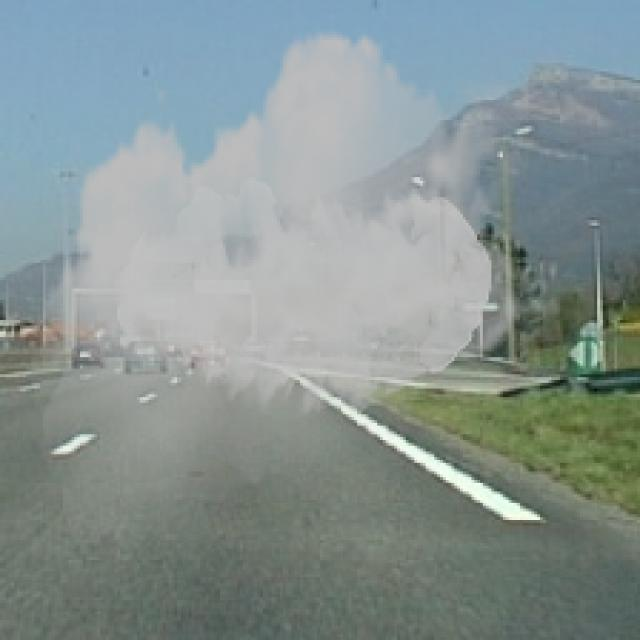smoke: (31, 9, 563, 574)
